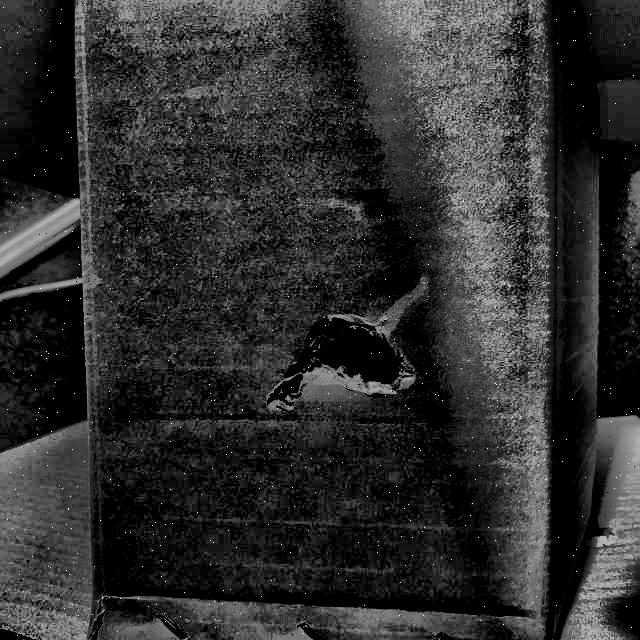box: (61, 0, 608, 639)
hole: (261, 314, 411, 418)
